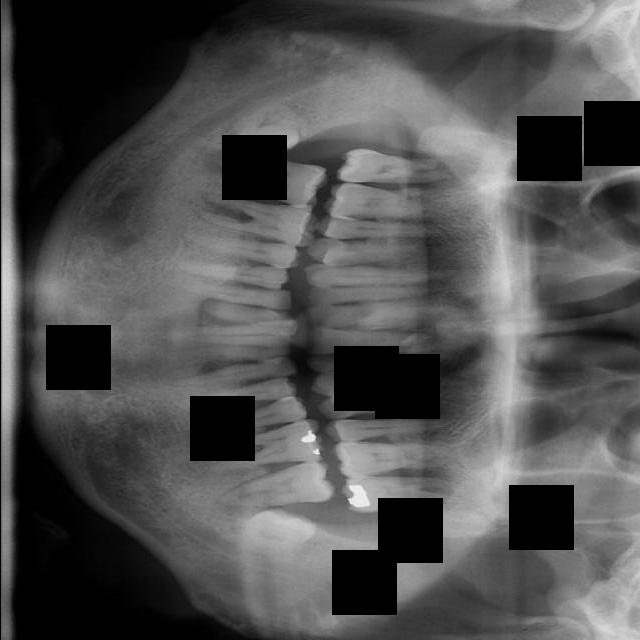52: (276, 414, 328, 472), (335, 471, 391, 517)
73: (22, 613, 34, 625)
BioHorizons Implant: (335, 474, 476, 517)
Biomet 3i Implant: (236, 498, 324, 569)
Blue Sky Bio Implant: (216, 456, 338, 527)
Caries: (335, 147, 464, 188)
Implant: (211, 148, 332, 213)
Keystone Dental Implant: (233, 90, 310, 168)
